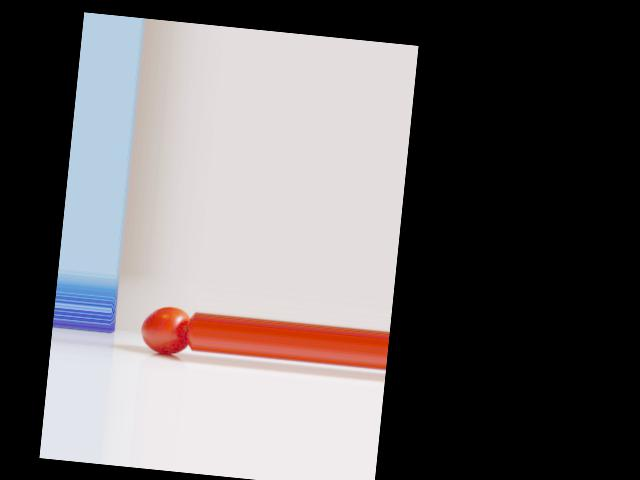tomato: (139, 304, 190, 356)
